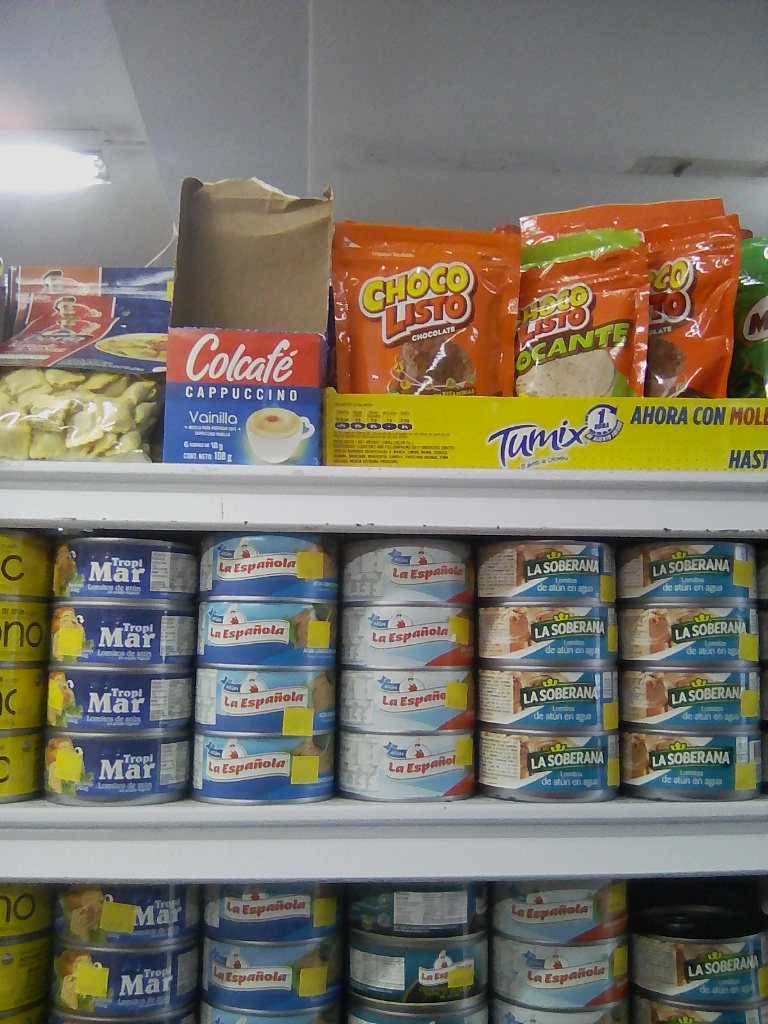COL0170102DYP10000: (514, 217, 643, 394)
